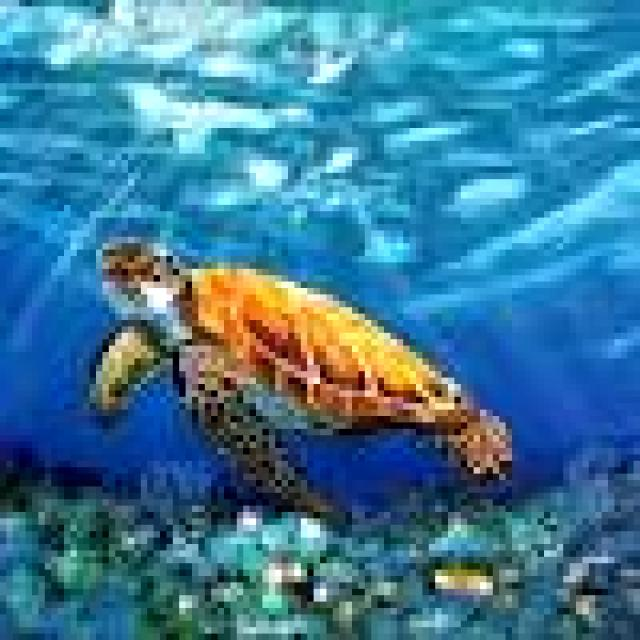Sea turtle: (81, 222, 521, 537)
